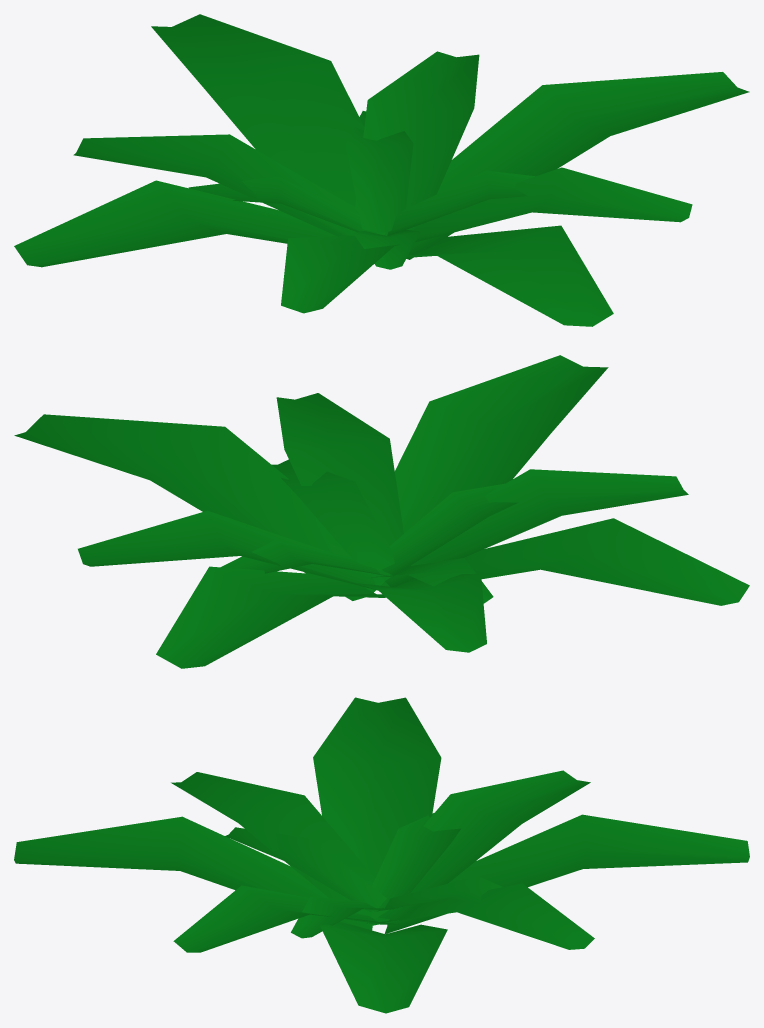
The model's file is Plant1.fbx.
3 views of the same model, one above another, from view 1: azimuth 30°, elevation 25°; view 2: azimuth 150°, elevation 25°; view 3: azimuth 270°, elevation 25° (orthographic). The views are drawn at different scales.
Parts seen in each view (by area): view 1: Plane.009; view 2: Plane.009; view 3: Plane.009.
Boxes of the visible parts, bbox=[...] form: Plane.009: bbox=[14, 14, 749, 326]; Plane.009: bbox=[14, 355, 749, 668]; Plane.009: bbox=[14, 697, 749, 1013].
Size of the model in its own units: 1145 by 152 by 1146.
